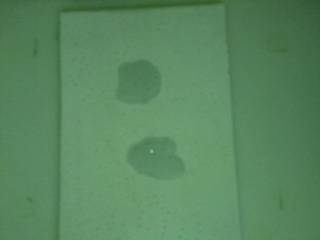Water_detected: (125, 64, 160, 95), (132, 150, 171, 175)
